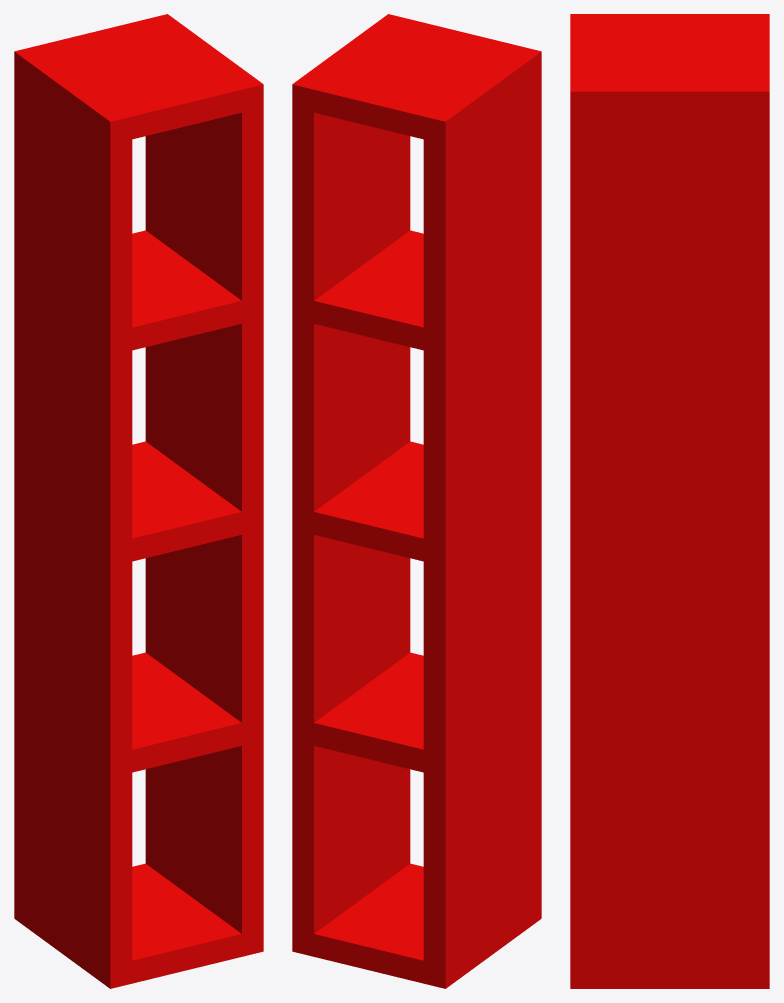
The model's file is Kallax2.dae.
The picture shows the model from 3 angles, left to right: view 1: azimuth 30°, elevation 25°; view 2: azimuth 150°, elevation 25°; view 3: azimuth 270°, elevation 25°; orthographic projection. The views are drawn at different scales.
Visible parts, largest first — view 1: group_2, group_1, group_5, group_3, group_6, group_4, group_7; view 2: group_2, group_1, group_5, group_3, group_6, group_4, group_7; view 3: group_1, group_5, group_2.
Part boxes in pixels (x1=…): group_2: x1=14, y1=46, x2=132, y2=988; group_1: x1=145, y1=14, x2=263, y2=956; group_5: x1=36, y1=19, x2=241, y2=139; group_3: x1=132, y1=652, x2=241, y2=772; group_6: x1=132, y1=863, x2=241, y2=983; group_4: x1=132, y1=230, x2=241, y2=350; group_7: x1=132, y1=441, x2=241, y2=561; group_2: x1=423, y1=46, x2=541, y2=988; group_1: x1=292, y1=14, x2=410, y2=956; group_5: x1=314, y1=19, x2=519, y2=139; group_3: x1=314, y1=652, x2=423, y2=772; group_6: x1=314, y1=863, x2=423, y2=983; group_4: x1=314, y1=230, x2=423, y2=350; group_7: x1=314, y1=441, x2=423, y2=561; group_1: x1=570, y1=80, x2=769, y2=988; group_5: x1=570, y1=25, x2=769, y2=80; group_2: x1=570, y1=14, x2=769, y2=24.
Size of the model in its own units: 0.35 by 1.89 by 0.38.
